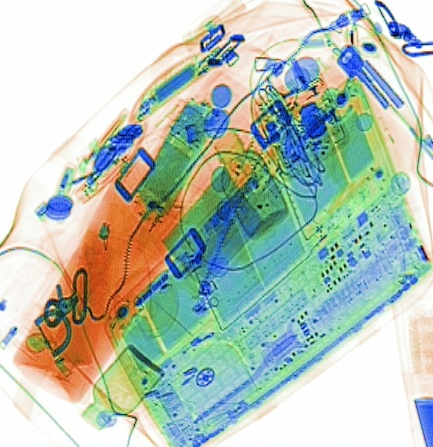powerbank: (123, 53, 199, 123)
